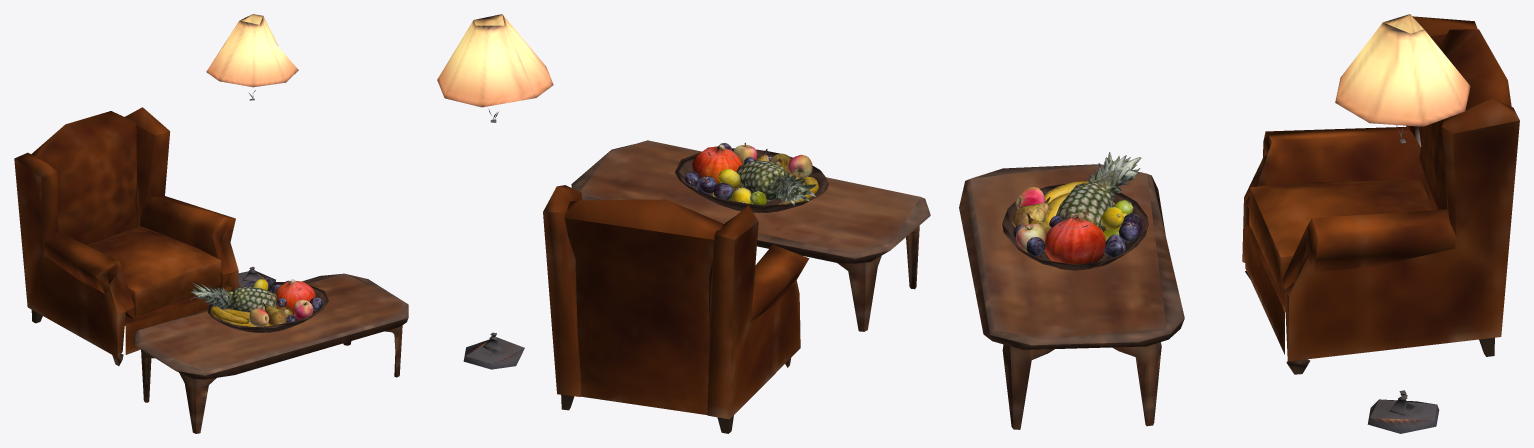
Rendered from lightmap-low.glb.
The picture shows the model from 3 angles, left to right: view 1: azimuth 30°, elevation 25°; view 2: azimuth 150°, elevation 25°; view 3: azimuth 270°, elevation 25°; orthographic projection. The views are drawn at different scales.
Parts seen in each view (by area): view 1: Furniture, Fruitbowl; view 2: Furniture, Fruitbowl; view 3: Furniture, Fruitbowl.
Boxes of the visible parts, x1,y1,x2,y2 form: Furniture: [14, 14, 408, 433]; Fruitbowl: [190, 278, 328, 332]; Furniture: [437, 14, 930, 433]; Fruitbowl: [675, 142, 828, 212]; Furniture: [959, 14, 1519, 433]; Fruitbowl: [1002, 152, 1148, 270].
Size of what is drawn, in the model's own units: 1.57 by 1.57 by 2.02.
10 materials, 10 textured.
